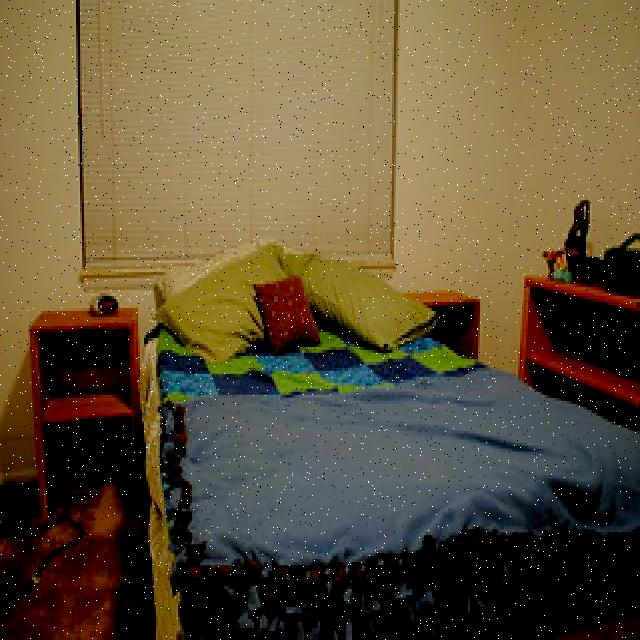bed: (141, 259, 596, 640)
